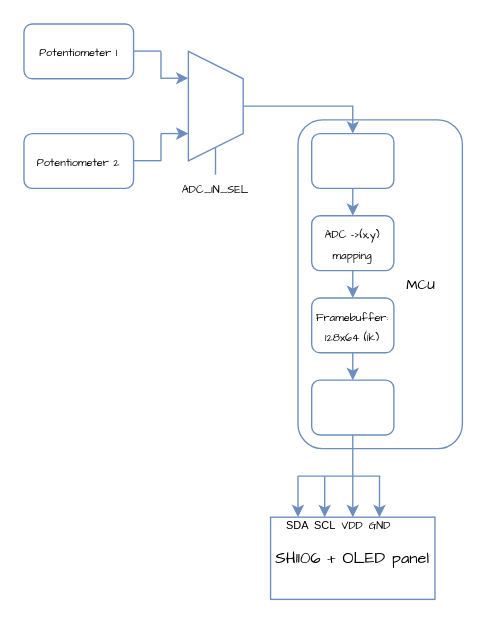
Image size: 486x623. Some labels were removed from this diagram. Each missing label, with the centre of its shape:
ADC: 12-bit: (x=352, y=160)
TWI: (x=352, y=407)
